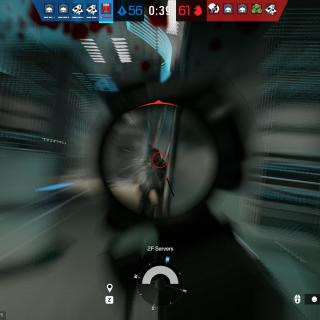Character: (138, 148, 168, 218)
Head: (150, 148, 161, 162)
